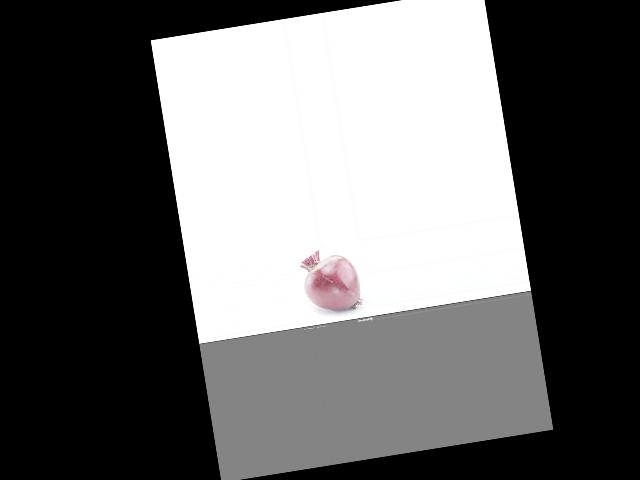beet: (298, 245, 363, 315)
